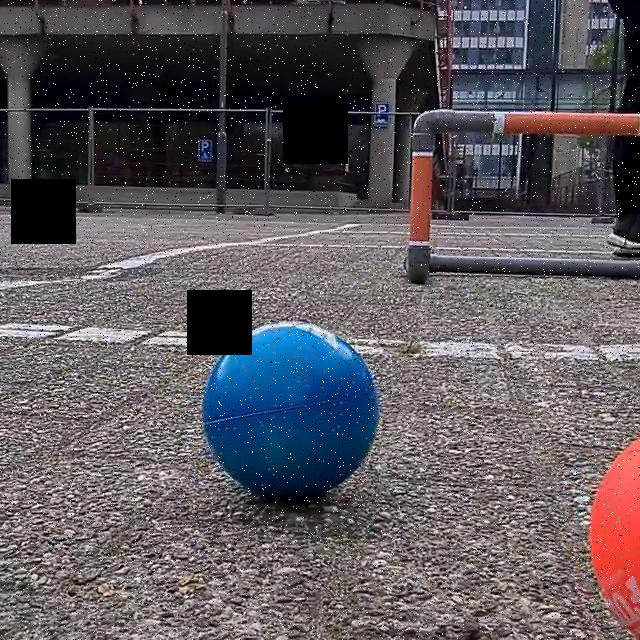ball: (199, 317, 380, 505)
